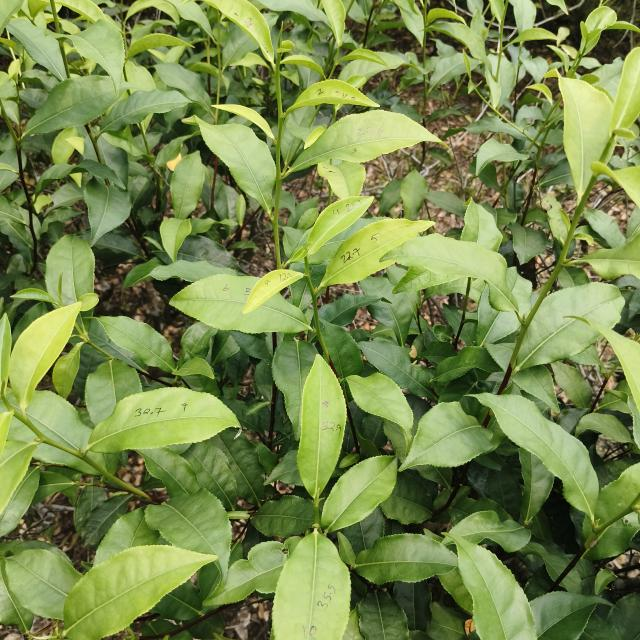Leaf: (475, 393, 599, 523), (63, 546, 216, 640), (384, 234, 518, 311), (85, 387, 239, 453), (514, 283, 624, 371), (448, 532, 537, 640), (290, 111, 439, 172), (272, 530, 351, 640), (170, 274, 309, 334), (9, 302, 81, 415), (194, 116, 276, 212), (320, 218, 434, 286), (145, 489, 232, 578), (196, 118, 276, 213), (297, 354, 346, 500), (559, 78, 612, 198), (400, 402, 491, 470), (322, 456, 397, 533), (25, 76, 117, 135), (585, 463, 640, 560), (206, 541, 288, 606), (6, 549, 81, 618), (354, 534, 457, 584), (359, 266, 420, 346), (357, 339, 435, 400), (345, 373, 412, 440), (205, 0, 274, 64), (587, 321, 640, 404), (272, 339, 317, 436), (99, 316, 175, 373), (209, 428, 265, 504), (181, 438, 237, 511), (70, 20, 125, 94), (305, 196, 374, 254), (27, 391, 92, 450), (94, 508, 159, 565), (85, 360, 142, 424), (8, 19, 66, 81), (102, 90, 189, 131), (45, 235, 95, 306), (285, 79, 379, 116), (530, 591, 600, 640), (449, 511, 531, 552), (35, 159, 124, 195), (84, 178, 131, 246), (138, 447, 200, 497), (74, 495, 129, 548), (156, 63, 213, 113), (0, 467, 41, 536), (576, 236, 640, 279), (242, 269, 303, 314), (519, 448, 554, 526), (609, 47, 640, 134), (381, 472, 431, 525), (253, 495, 314, 538), (0, 440, 36, 512), (357, 591, 409, 640), (433, 346, 501, 383), (320, 320, 363, 378), (177, 235, 242, 273), (511, 364, 560, 412), (338, 506, 384, 556), (171, 152, 205, 218), (460, 198, 502, 251), (434, 22, 487, 63), (591, 162, 640, 206), (150, 580, 202, 621), (520, 539, 572, 580), (216, 104, 275, 140), (319, 294, 382, 326), (339, 52, 408, 81), (551, 362, 592, 410), (393, 581, 431, 632), (317, 159, 366, 198), (475, 139, 528, 175), (150, 260, 236, 282), (430, 52, 480, 89), (34, 443, 95, 473), (52, 342, 84, 399), (0, 205, 32, 260), (575, 413, 632, 443), (222, 22, 259, 67), (583, 209, 625, 248), (260, 0, 328, 24), (74, 485, 106, 536), (168, 0, 213, 36), (127, 34, 191, 59), (508, 222, 546, 264), (94, 228, 143, 258), (427, 602, 464, 640), (263, 450, 302, 486), (400, 170, 428, 220), (542, 195, 570, 245), (160, 217, 191, 262), (393, 0, 424, 42), (126, 0, 179, 24), (181, 322, 217, 357), (55, 0, 106, 22), (125, 59, 156, 94), (281, 55, 326, 79), (321, 0, 345, 44), (465, 116, 518, 135), (427, 190, 465, 216), (52, 127, 77, 164), (378, 179, 403, 216), (509, 0, 536, 34), (175, 357, 215, 379), (0, 314, 11, 394), (11, 288, 59, 306), (0, 0, 23, 36), (586, 6, 616, 32), (339, 49, 385, 65), (427, 8, 466, 26), (486, 343, 514, 368), (337, 532, 356, 568), (522, 56, 548, 82), (9, 416, 35, 441), (513, 28, 556, 43), (485, 71, 501, 109), (594, 568, 616, 595), (21, 88, 48, 109), (231, 52, 265, 66), (561, 569, 581, 592), (190, 217, 214, 235), (516, 106, 544, 120), (471, 8, 484, 36), (7, 390, 20, 415), (96, 454, 115, 469), (139, 114, 153, 132), (263, 13, 278, 28)
